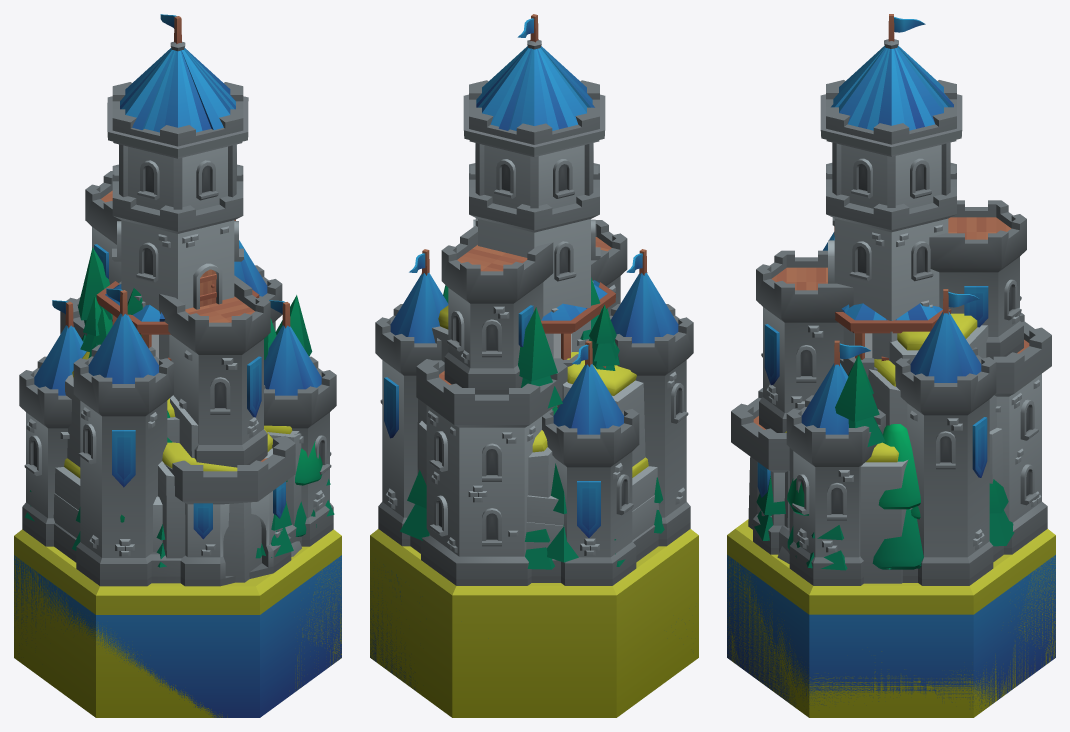
File: kaykit-hex.glb
3 views of the same model, side by side, from view 1: azimuth 30°, elevation 25°; view 2: azimuth 150°, elevation 25°; view 3: azimuth 270°, elevation 25° (orthographic).
Visible parts, largest first — view 1: building_castle_blue, hex_grass, hex_water, mountain_C_grass_trees, mountain_C, mountain_A_grass_trees, building_tower_A_blue, trees_A_large, trees_B_large, mountain_B, mountain_A; view 2: building_castle_blue, hex_grass, mountain_C_grass_trees, mountain_A_grass_trees, mountain_C, trees_A_large, building_tower_A_blue, mountain_B_grass, mountain_A, mountain_B, hills_C_trees, hex_water; view 3: building_castle_blue, hex_water, hex_grass, mountain_B_grass, trees_B_medium, mountain_B, building_tower_A_blue, trees_A_large, mountain_A_grass_trees, mountain_C, trees_B_large.
Part boxes in pixels (<box>): building_castle_blue: <box>19,14,336,586</box>; hex_grass: <box>14,529,341,717</box>; hex_water: <box>14,555,341,717</box>; mountain_C_grass_trees: <box>65,288,276,558</box>; mountain_C: <box>65,381,301,582</box>; mountain_A_grass_trees: <box>54,247,312,524</box>; building_tower_A_blue: <box>96,281,259,360</box>; trees_A_large: <box>25,479,334,567</box>; trees_B_large: <box>120,441,322,536</box>; mountain_B: <box>55,467,80,509</box>; mountain_A: <box>53,417,281,537</box>; building_castle_blue: <box>375,14,693,585</box>; hex_grass: <box>370,529,698,717</box>; mountain_C_grass_trees: <box>528,277,645,466</box>; mountain_A_grass_trees: <box>417,285,654,525</box>; mountain_C: <box>419,383,644,497</box>; trees_A_large: <box>400,470,664,569</box>; building_tower_A_blue: <box>541,280,615,366</box>; mountain_B_grass: <box>417,305,648,525</box>; mountain_A: <box>526,495,658,559</box>; mountain_B: <box>417,326,657,510</box>; hills_C_trees: <box>546,463,578,562</box>; hex_water: <box>370,564,422,690</box>; building_castle_blue: <box>731,14,1051,585</box>; hex_water: <box>727,555,1055,711</box>; hex_grass: <box>727,519,1055,717</box>; mountain_B_grass: <box>860,313,996,583</box>; trees_B_medium: <box>872,424,923,569</box>; mountain_B: <box>860,325,988,505</box>; building_tower_A_blue: <box>835,303,951,377</box>; trees_A_large: <box>752,475,1014,570</box>; mountain_A_grass_trees: <box>789,356,885,474</box>; mountain_C: <box>748,428,1003,534</box>; trees_B_large: <box>787,478,923,568</box>.
Bounding box in the file's own units: 2 × 4.98 × 2.31.
1 material, 1 textured.
